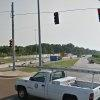Traffic light: (47, 10, 69, 33)
